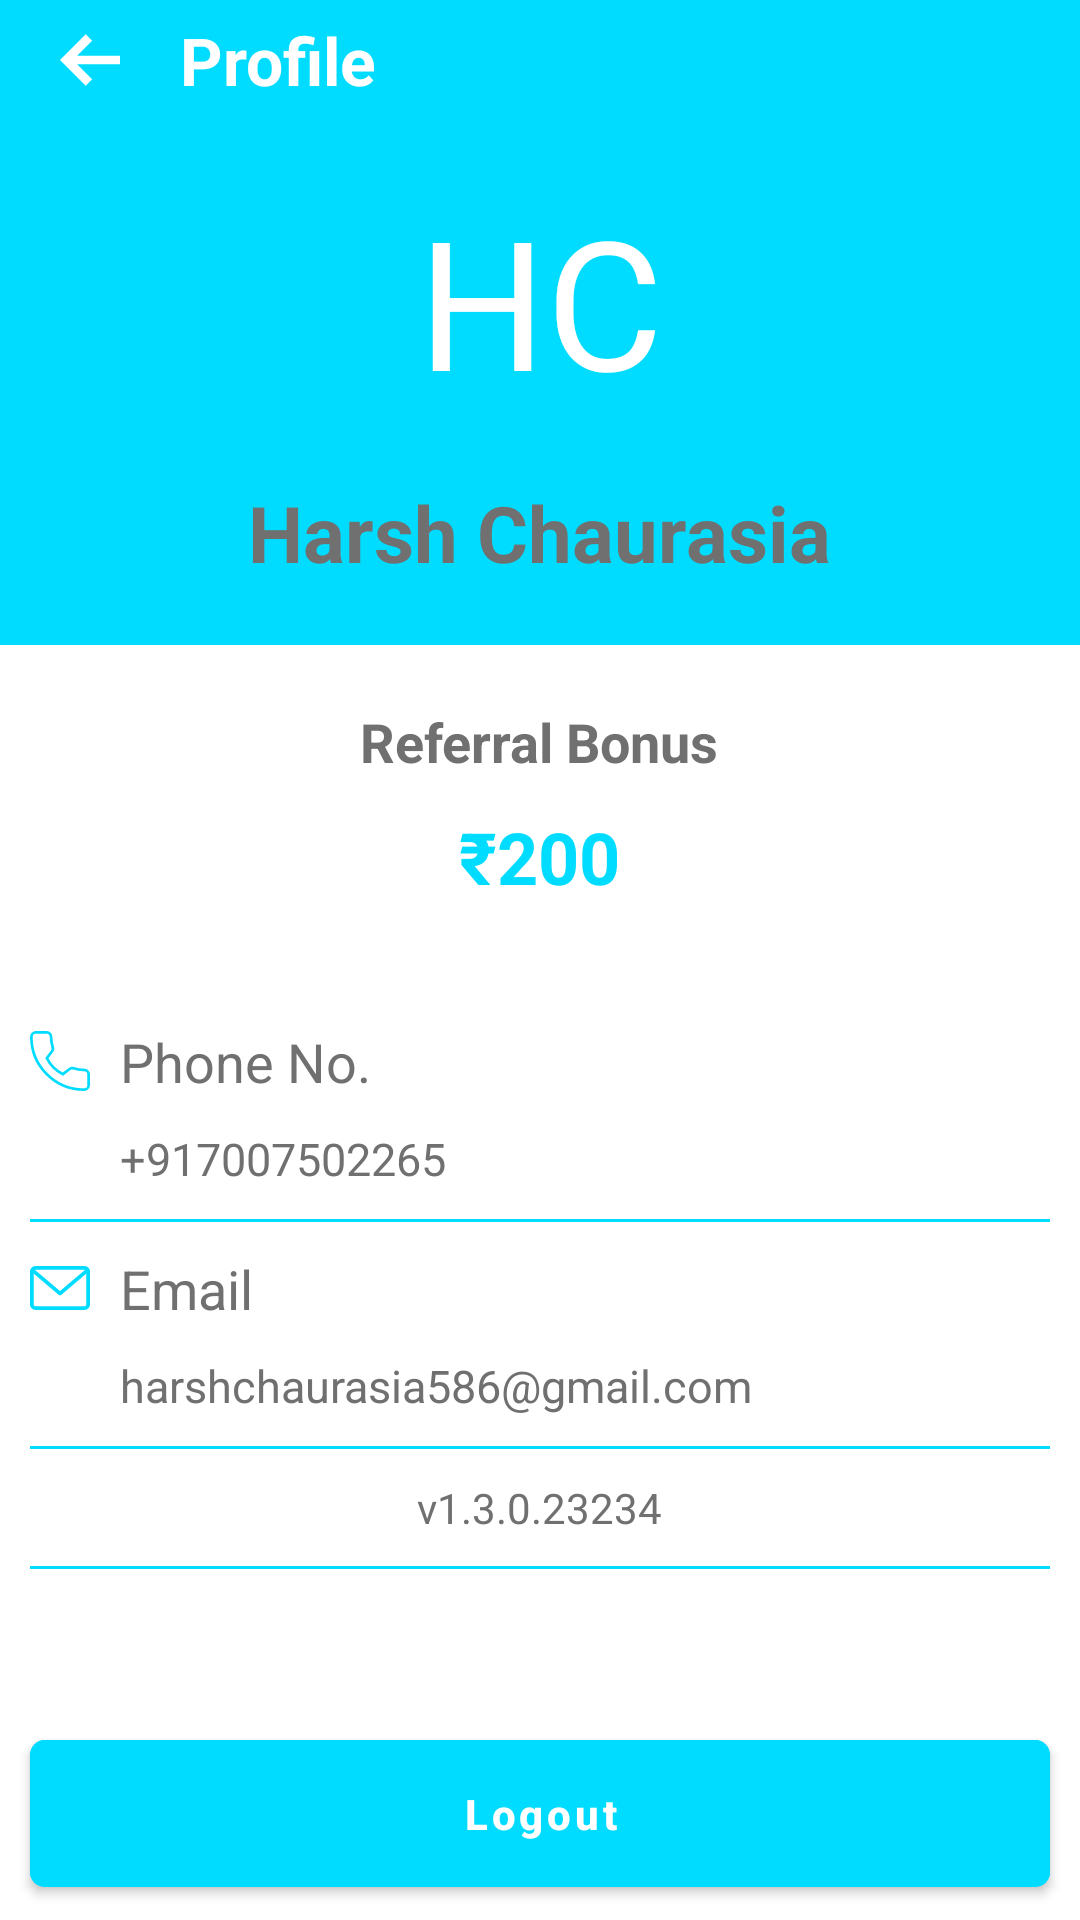

Icons on this 1080px x 1920px Android screen, each with the point to tap as (x=x, y=y):
left arrow: (x=90, y=60)
